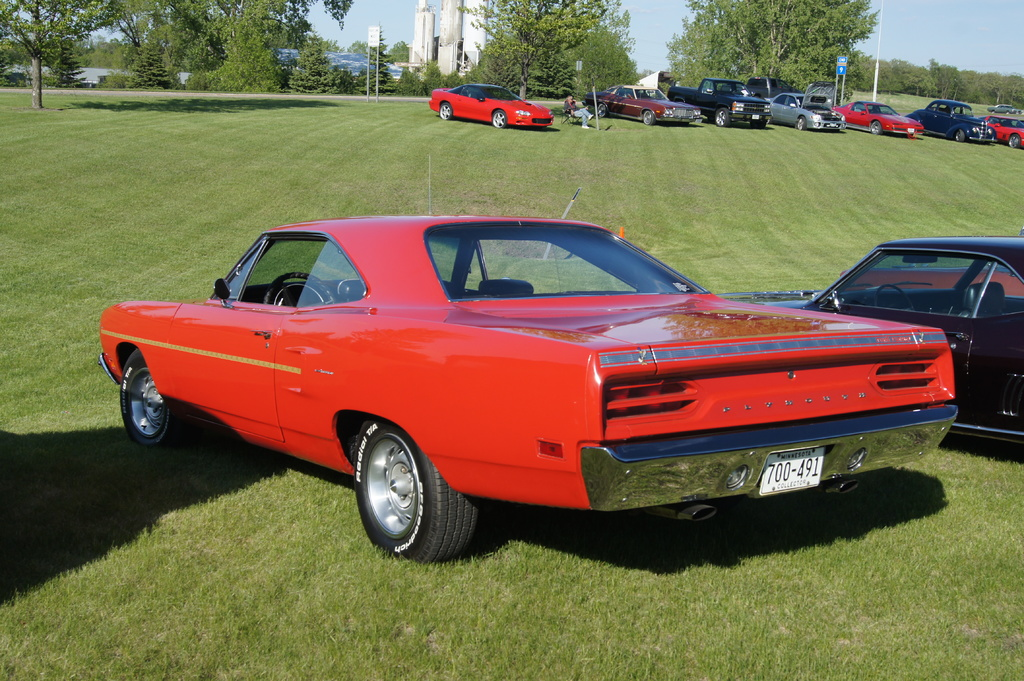Car: (93, 211, 977, 562), (725, 241, 1023, 439), (424, 79, 554, 147), (584, 81, 705, 128), (913, 99, 1007, 147), (837, 92, 920, 145), (758, 84, 838, 136)
